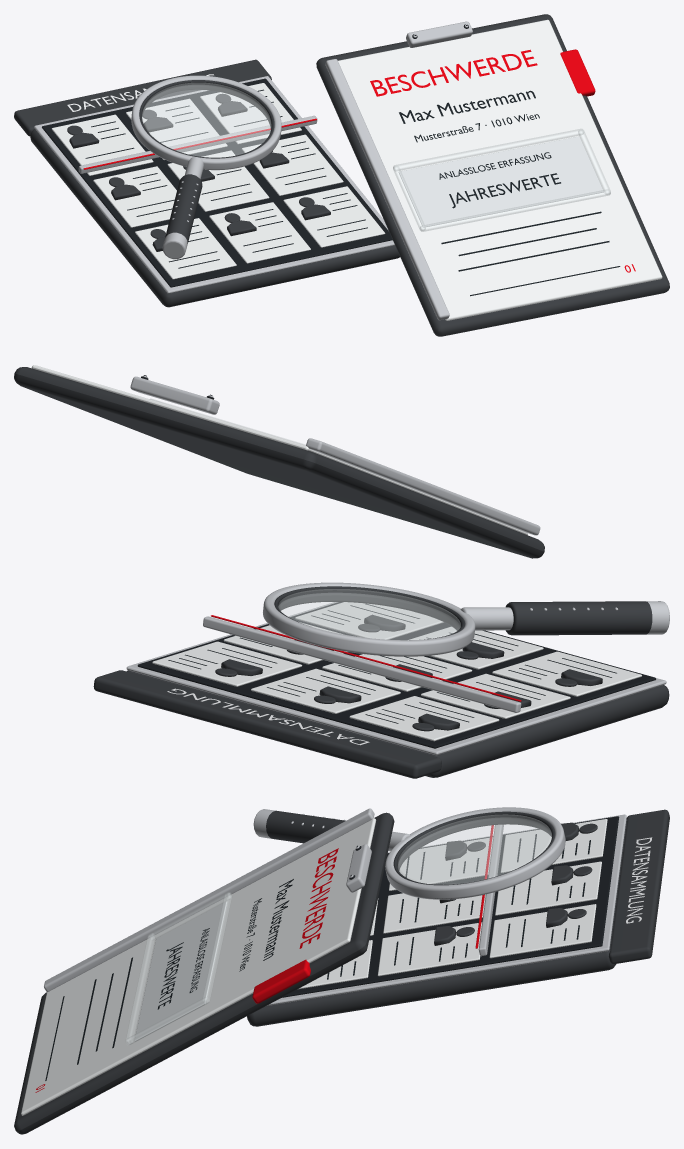
File: collection-review.glb
The picture shows the model from 3 angles, top to bottom: view 1: azimuth 30°, elevation 25°; view 2: azimuth 150°, elevation 25°; view 3: azimuth 270°, elevation 25°; orthographic projection. The views are drawn at different scales.
Parts seen in each view (by area): view 1: Complaint page block.002, Complaint evidence panel.002, Collection tray matte bed, Complaint folio rear cover.002, Evidence magnifier optical lens, Small shared collection tray, Collection tray titanium perimeter, Complaint filing spine.002, Shared collection top nameplate, Thin collected paper record.002, Thin collected paper record.001, Evidence magnifier polished outer rim (+20 smaller); view 2: Complaint folio rear cover.002, Shared collection top nameplate, Collection tray matte bed, Evidence magnifier optical lens, Small shared collection tray, Evidence magnifier polished outer rim, Evidence magnifier graphite handle, Collection tray titanium perimeter, One common processing rail, Evidence magnifier graphite seal, Thin collected paper record.008, Thin collected paper record (+14 smaller); view 3: Complaint page block.002, Complaint folio rear cover.002, Evidence magnifier optical lens, Small shared collection tray, Complaint evidence panel.002, Collection tray matte bed, Shared collection top nameplate, Complaint filing spine.002, Evidence magnifier polished outer rim, Thin collected paper record.008, Collection tray titanium perimeter, Thin collected paper record.005 (+16 smaller).
Part boxes in pixels (bbox=[...]): Complaint page block.002: bbox=[338, 19, 662, 320]; Complaint evidence panel.002: bbox=[398, 136, 603, 227]; Collection tray matte bed: bbox=[42, 78, 392, 287]; Complaint folio rear cover.002: bbox=[316, 14, 669, 336]; Evidence magnifier optical lens: bbox=[142, 83, 271, 157]; Small shared collection tray: bbox=[30, 128, 399, 307]; Collection tray titanium perimeter: bbox=[34, 76, 394, 293]; Complaint filing spine.002: bbox=[325, 59, 449, 320]; Shared collection top nameplate: bbox=[14, 59, 271, 136]; Thin collected paper record.002: bbox=[283, 186, 385, 247]; Thin collected paper record.001: bbox=[209, 202, 310, 263]; Evidence magnifier polished outer rim: bbox=[131, 75, 281, 170]; Complaint folio rear cover.002: bbox=[14, 367, 544, 558]; Shared collection top nameplate: bbox=[93, 670, 441, 778]; Collection tray matte bed: bbox=[137, 602, 655, 748]; Evidence magnifier optical lens: bbox=[278, 589, 460, 639]; Small shared collection tray: bbox=[127, 670, 669, 777]; Evidence magnifier polished outer rim: bbox=[263, 582, 475, 656]; Evidence magnifier graphite handle: bbox=[505, 601, 652, 635]; Collection tray titanium perimeter: bbox=[126, 602, 666, 755]; One common processing rail: bbox=[203, 616, 521, 712]; Evidence magnifier graphite seal: bbox=[274, 586, 465, 639]; Thin collected paper record.008: bbox=[152, 641, 302, 686]; Thin collected paper record: bbox=[492, 651, 641, 696]; Complaint page block.002: bbox=[21, 818, 376, 1115]; Complaint folio rear cover.002: bbox=[14, 812, 394, 1134]; Evidence magnifier optical lens: bbox=[397, 814, 551, 884]; Small shared collection tray: bbox=[247, 818, 627, 1026]; Complaint evidence panel.002: bbox=[134, 901, 227, 1041]; Collection tray matte bed: bbox=[281, 816, 619, 997]; Shared collection top nameplate: bbox=[608, 809, 669, 964]; Complaint filing spine.002: bbox=[44, 808, 374, 992]; Evidence magnifier polished outer rim: bbox=[385, 807, 565, 899]; Thin collected paper record.008: bbox=[489, 904, 596, 958]; Collection tray titanium perimeter: bbox=[266, 814, 626, 1005]; Thin collected paper record.005: bbox=[377, 922, 482, 976].
Size of the model in its own units: 6.11 by 2.5 by 6.66.
Materials: 4 (4 with a texture image).
